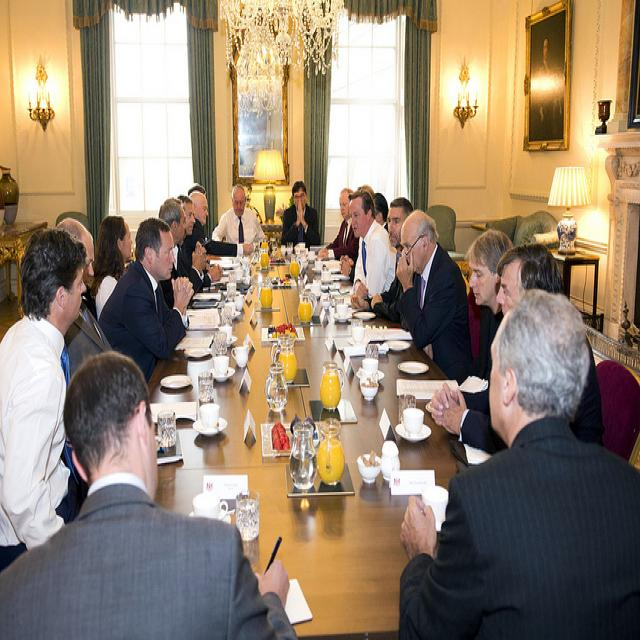chair: (598, 355, 640, 467), (487, 210, 559, 248), (462, 274, 480, 362), (426, 204, 456, 253), (55, 212, 89, 229)
dining table: (147, 246, 466, 631)
